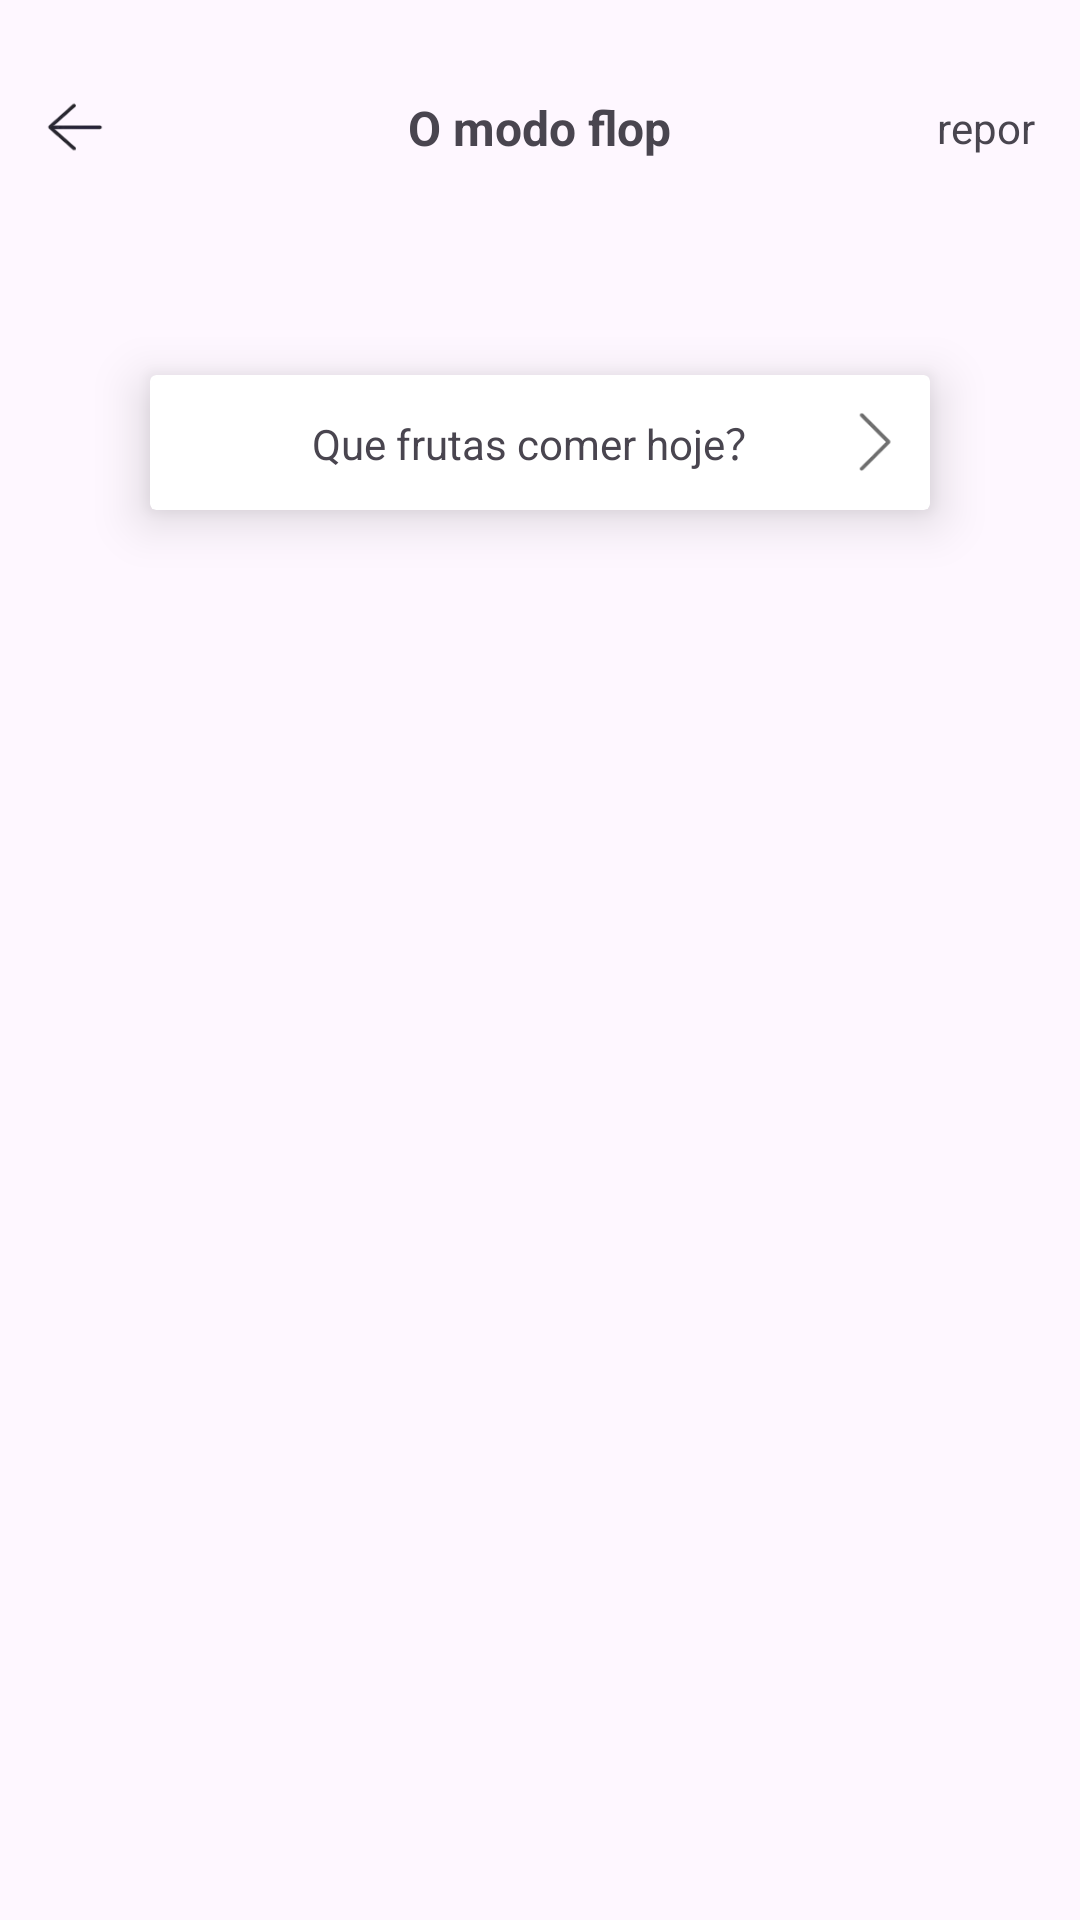

Where icons sit on this 1080*1920 app screen, as (x1, y1, x2, y2):
fanhui: (48, 103, 102, 151)
